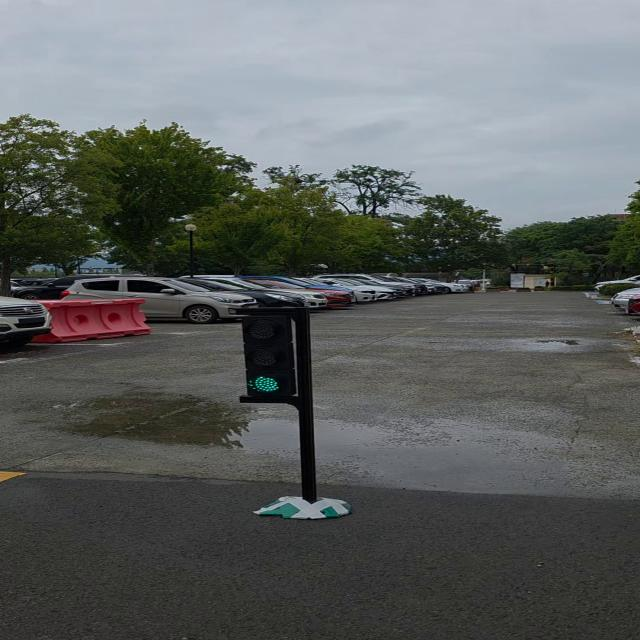green: (237, 308, 308, 405)
